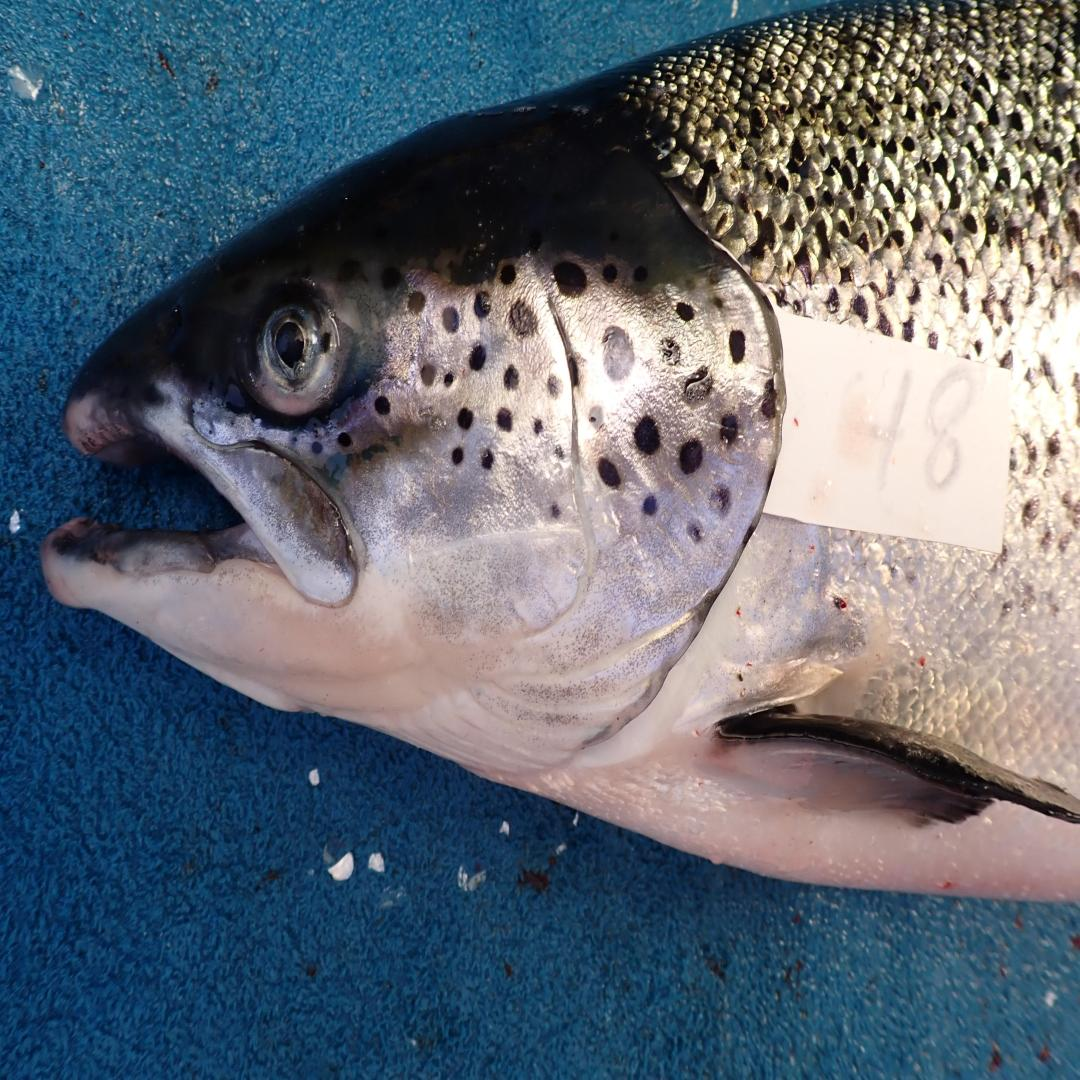spot: (603, 326, 635, 380), (508, 301, 538, 338), (553, 262, 586, 295), (683, 366, 713, 402), (635, 416, 660, 456), (679, 439, 702, 472), (597, 458, 620, 489), (719, 413, 738, 444), (761, 380, 776, 419), (565, 349, 580, 388), (711, 484, 730, 512), (662, 338, 681, 366), (730, 329, 745, 363), (468, 343, 485, 371), (407, 290, 426, 315), (475, 290, 491, 318), (686, 520, 705, 543), (443, 307, 460, 332), (500, 264, 517, 287), (496, 408, 513, 430), (589, 405, 603, 430), (546, 374, 561, 397), (504, 366, 519, 388), (420, 363, 435, 385), (373, 397, 390, 416), (458, 408, 472, 430), (643, 495, 658, 515), (677, 304, 694, 321), (481, 450, 494, 470), (633, 264, 648, 281), (603, 264, 618, 281), (451, 447, 464, 464), (709, 269, 721, 286), (338, 433, 352, 447), (551, 503, 561, 520), (555, 444, 565, 461), (713, 295, 725, 309), (312, 442, 323, 456), (685, 280, 696, 291), (534, 419, 542, 433), (445, 374, 454, 385)
